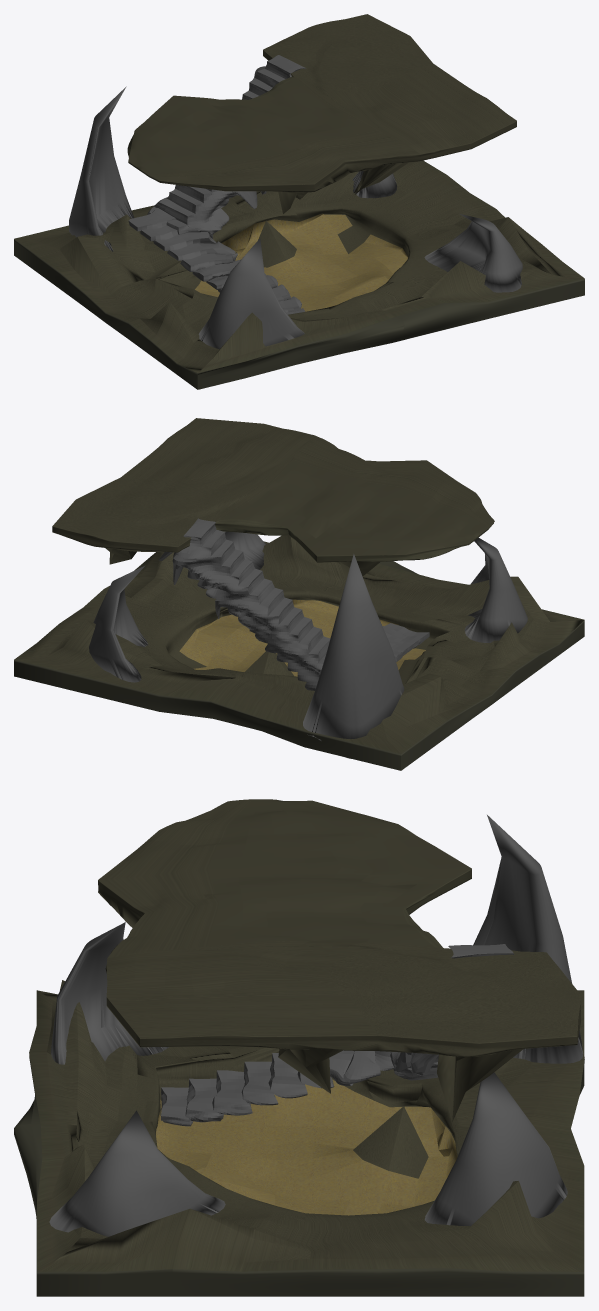
File: cavearea.fbx
3 views of the same model, one above another, from view 1: azimuth 30°, elevation 25°; view 2: azimuth 150°, elevation 25°; view 3: azimuth 270°, elevation 25° (orthographic). The views are drawn at different scales.
Parts seen in each view (by area): view 1: Cube.002; view 2: Cube.002; view 3: Cube.002.
Part boxes in pixels (<box>): Cube.002: <box>14,14,584,389</box>; Cube.002: <box>14,418,584,770</box>; Cube.002: <box>14,799,584,1296</box>.
Size of the model in its own units: 10783 by 5022 by 9147.
